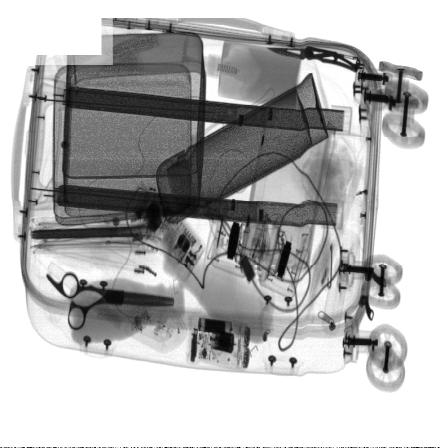Knife: (265, 45, 360, 75)
Scissors: (44, 270, 177, 334)
